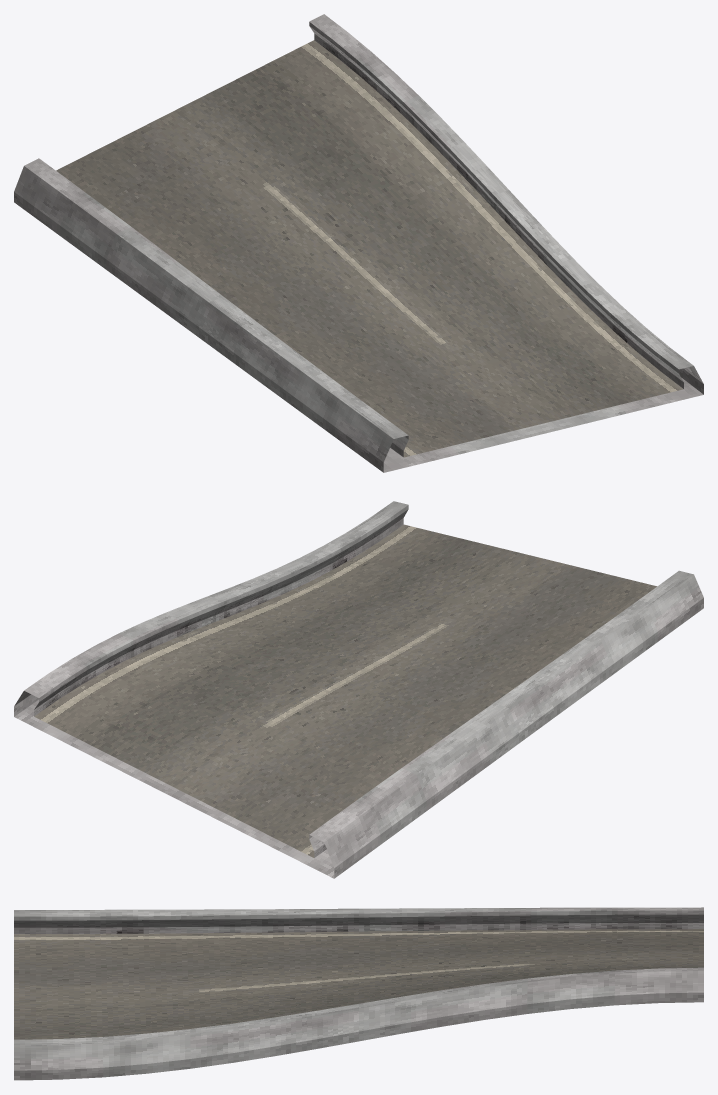
Rendered from straight2.glb.
3 views of the same model, one above another, from view 1: azimuth 30°, elevation 25°; view 2: azimuth 150°, elevation 25°; view 3: azimuth 270°, elevation 25° (orthographic). The views are drawn at different scales.
Visible parts, largest first — view 1: road-Straight-Flat-HalfBankedLeft-Even-Center-Size2; view 2: road-Straight-Flat-HalfBankedLeft-Even-Center-Size2; view 3: road-Straight-Flat-HalfBankedLeft-Even-Center-Size2.
Boxes of the visible parts, x1,y1,x2,y2 form: road-Straight-Flat-HalfBankedLeft-Even-Center-Size2: (14,14,703,472); road-Straight-Flat-HalfBankedLeft-Even-Center-Size2: (14,501,703,878); road-Straight-Flat-HalfBankedLeft-Even-Center-Size2: (14,907,703,1080).
Bounding box in the file's own units: 1 × 0.3359 × 2.
2 materials, 2 textured.
